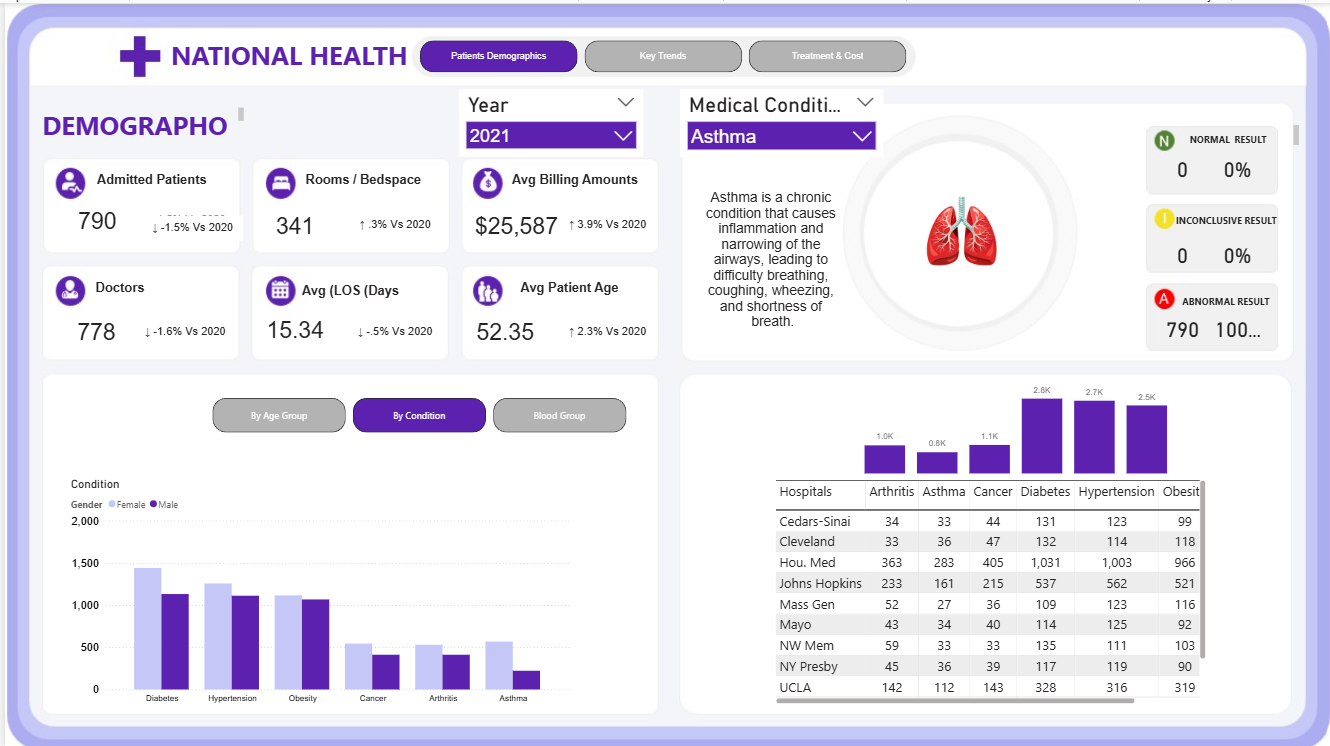

The dashboard page shown, as its layout file describes it:
{"tool":"powerbi","page":{"name":"Patients Demographics","canvas":[1920,1080],"ordinal":0},"visuals":[{"type":"card","fields":{"Values":["DAX.Admitted Patients"]},"box":[48.6,288.6,170,52.9],"z":0},{"type":"clusteredColumnChart","title":"Condition","fields":{"Y":["DAX.Admitted Patients"],"Series":["HealthData.Gender"],"Category":["DimCondition.Medical Condition"]},"box":[89.6,686,732.6,336],"z":1000,"group":"g1"},{"type":"textbox","box":[122.9,240,191.4,44.3],"z":1000},{"type":"textbox","box":[420,240,201.4,44.3],"z":2000},{"type":"textbox","box":[724.3,240,204.3,54.3],"z":4000},{"type":"textbox","box":[117.1,284.3,101.4,10],"z":5000},{"type":"textbox","box":[115.7,397.1,207.1,41.4],"z":6000},{"type":"textbox","box":[420,401.4,221.4,40],"z":7000},{"type":"textbox","box":[731.4,397.1,191.4,44.3],"z":8000},{"type":"card","fields":{"Values":["DAX.Rooms"]},"box":[334.3,288.6,171.4,68.6],"z":9000},{"type":"card","fields":{"Values":["DAX.Avg Billing Amt"]},"box":[655.7,288.6,171.4,68.6],"z":10000},{"type":"card","fields":{"Values":["DAX.Doctors"]},"box":[47.1,441.4,171.4,68.6],"z":11000},{"type":"card","fields":{"Values":["DAX.Avg LOS"]},"box":[334.3,438.6,171.4,68.6],"z":12000},{"type":"card","fields":{"Values":["DAX.Average age"]},"box":[638.6,441.4,171.4,68.6],"z":13000},{"type":"card","fields":{"Values":["DAX.Adm YoY"]},"box":[188.6,297.1,145.7,37.1],"z":14000},{"type":"card","fields":{"Values":["DAX.Room YoY"]},"box":[492.9,304.3,145.7,37.1],"z":15000},{"type":"card","fields":{"Values":["DAX.Bill YoY"]},"box":[800,304.3,145.7,37.1],"z":16000},{"type":"card","fields":{"Values":["DAX.Doc YoY"]},"box":[188.6,457.1,145.7,37.1],"z":17000},{"type":"card","fields":{"Values":["DAX.LOS YoY"]},"box":[492.9,457.1,145.7,37.1],"z":18000},{"type":"card","fields":{"Values":["DAX.Age YoY"]},"box":[800,457.1,145.7,37.1],"z":19000},{"type":"tableEx","fields":{"Values":["DimCondition.URL 2"]},"box":[1304,246,160,172],"z":20000},{"type":"card","fields":{"Values":["DAX.Adm YoY"]},"box":[198.6,307.1,145.7,37.1],"z":21000},{"type":"slicer","fields":{"Values":["DimCondition.Medical Condition"]},"box":[978,124,294,98],"z":22000},{"type":"card","fields":{"Values":["Min(DimCondition.Description)"]},"box":[1000,230,222,266],"z":23000},{"type":"card","fields":{"Values":["DAX.Normal Results"]},"box":[1664,212,80,56],"z":24000},{"type":"card","fields":{"Values":["DAX.Normal Result %"]},"box":[1744,212,80,56],"z":25000},{"type":"card","fields":{"Values":["DAX.Inconclusive Results"]},"box":[1664,336,80,56],"z":26000},{"type":"card","fields":{"Values":["DAX.Inconclusive %"]},"box":[1744,336,80,56],"z":27000},{"type":"card","fields":{"Values":["DAX.Abnormal Results"]},"box":[1664,444,80,56],"z":28000},{"type":"card","fields":{"Values":["DAX.AbnormalR %"]},"box":[1744,444,80,56],"z":29000},{"type":"textbox","title":"32 Text box","box":[1709.3,172.1,168.6,40],"z":30000},{"type":"textbox","box":[1690,300,167.5,40],"z":31000},{"type":"textbox","box":[1700,417.5,150,40],"z":32000},{"type":"group","id":"g1","title":"Demographics","box":[48,666,844,356],"z":33000},{"type":"bookmarkNavigator","box":[300,572,600,50],"z":34000},{"type":"pivotTable","fields":{"Rows":["HealthData.Hospitals"],"Columns":["DimCondition.Medical Condition"],"Values":["DAX.Admitted Patients"]},"box":[1112,686,632,334],"z":35000},{"type":"clusteredColumnChart","fields":{"Y":["DAX.Admitted Patients"],"Category":["DimCondition.Medical Condition"]},"box":[1240,540,450,148],"z":36000},{"type":"pageNavigator","box":[600,54,704,46],"z":37000},{"type":"textbox","box":[48,146,302,54],"z":38000},{"type":"textbox","box":[236,46,366,72],"z":39000},{"type":"slicer","fields":{"Values":["Calendar.Year"]},"box":[657.5,125,267.5,97.5],"z":40000}]}

Visuals, with their boxes in screenshot pixels (x1, y1, x2, y2), scaled from the page's 1920x1080 canvas onto the 1330x746 screenshot:
card - DAX.Admitted Patients: [34, 199, 151, 236]
"Condition" clusteredColumnChart: [62, 474, 570, 706]
textbox: [85, 166, 218, 196]
textbox: [291, 166, 430, 196]
textbox: [502, 166, 643, 203]
textbox: [81, 196, 151, 203]
textbox: [80, 274, 224, 303]
textbox: [291, 277, 444, 305]
textbox: [507, 274, 639, 305]
card - DAX.Rooms: [232, 199, 350, 247]
card - DAX.Avg Billing Amt: [454, 199, 573, 247]
card - DAX.Doctors: [33, 305, 151, 352]
card - DAX.Avg LOS: [232, 303, 350, 350]
card - DAX.Average age: [442, 305, 561, 352]
card - DAX.Adm YoY: [131, 205, 232, 231]
card - DAX.Room YoY: [341, 210, 442, 236]
card - DAX.Bill YoY: [554, 210, 655, 236]
card - DAX.Doc YoY: [131, 316, 232, 341]
card - DAX.LOS YoY: [341, 316, 442, 341]
card - DAX.Age YoY: [554, 316, 655, 341]
tableEx - DimCondition.URL 2: [903, 170, 1014, 289]
card - DAX.Adm YoY: [138, 212, 238, 238]
slicer - DimCondition.Medical Condition: [677, 86, 881, 153]
card - Min(DimCondition.Description): [693, 159, 846, 343]
card - DAX.Normal Results: [1153, 146, 1208, 185]
card - DAX.Normal Result %: [1208, 146, 1264, 185]
card - DAX.Inconclusive Results: [1153, 232, 1208, 271]
card - DAX.Inconclusive %: [1208, 232, 1264, 271]
card - DAX.Abnormal Results: [1153, 307, 1208, 345]
card - DAX.AbnormalR %: [1208, 307, 1264, 345]
"32 Text box" textbox: [1184, 119, 1301, 147]
textbox: [1171, 207, 1287, 235]
textbox: [1178, 288, 1282, 316]
"Demographics" group: [33, 460, 618, 706]
bookmarkNavigator: [208, 395, 623, 430]
pivotTable - HealthData.Hospitals x DimCondition.Medical Condition: [770, 474, 1208, 705]
clusteredColumnChart - DAX.Admitted Patients x DimCondition.Medical Condition: [859, 373, 1171, 475]
pageNavigator: [416, 37, 903, 69]
textbox: [33, 101, 242, 138]
textbox: [163, 32, 417, 82]
slicer - Calendar.Year: [455, 86, 641, 154]
